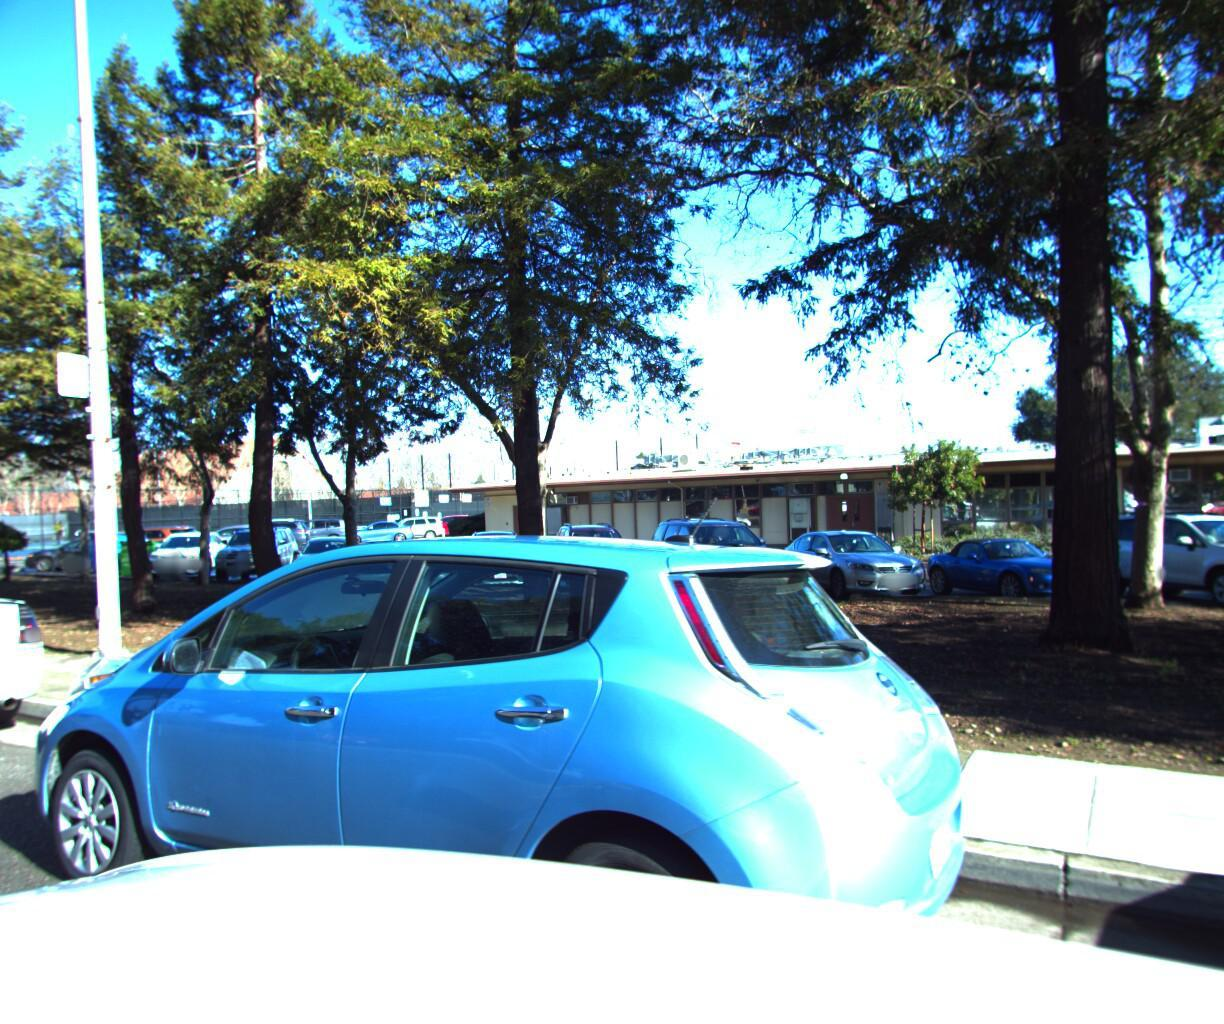car: (0, 510, 999, 1024), (0, 539, 76, 794)
